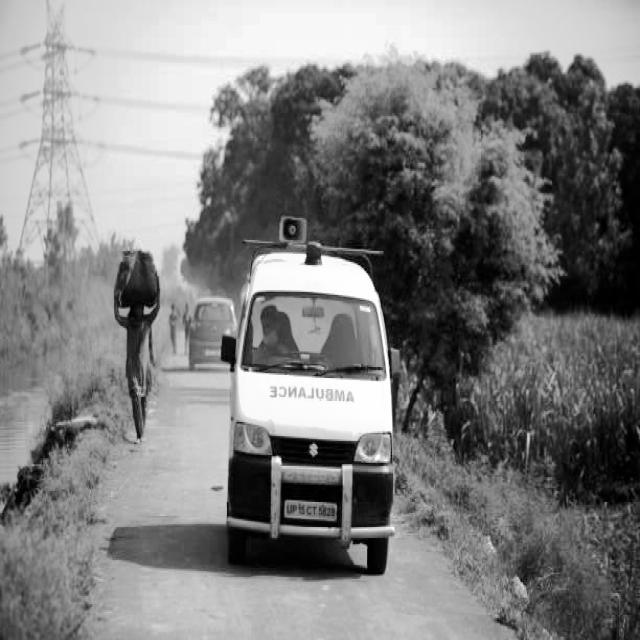Ambulance: (254, 275, 379, 381), (268, 379, 362, 410), (304, 235, 328, 276)
